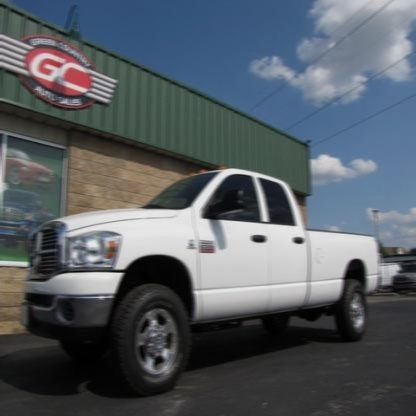Vehicle: (20, 168, 380, 392)
